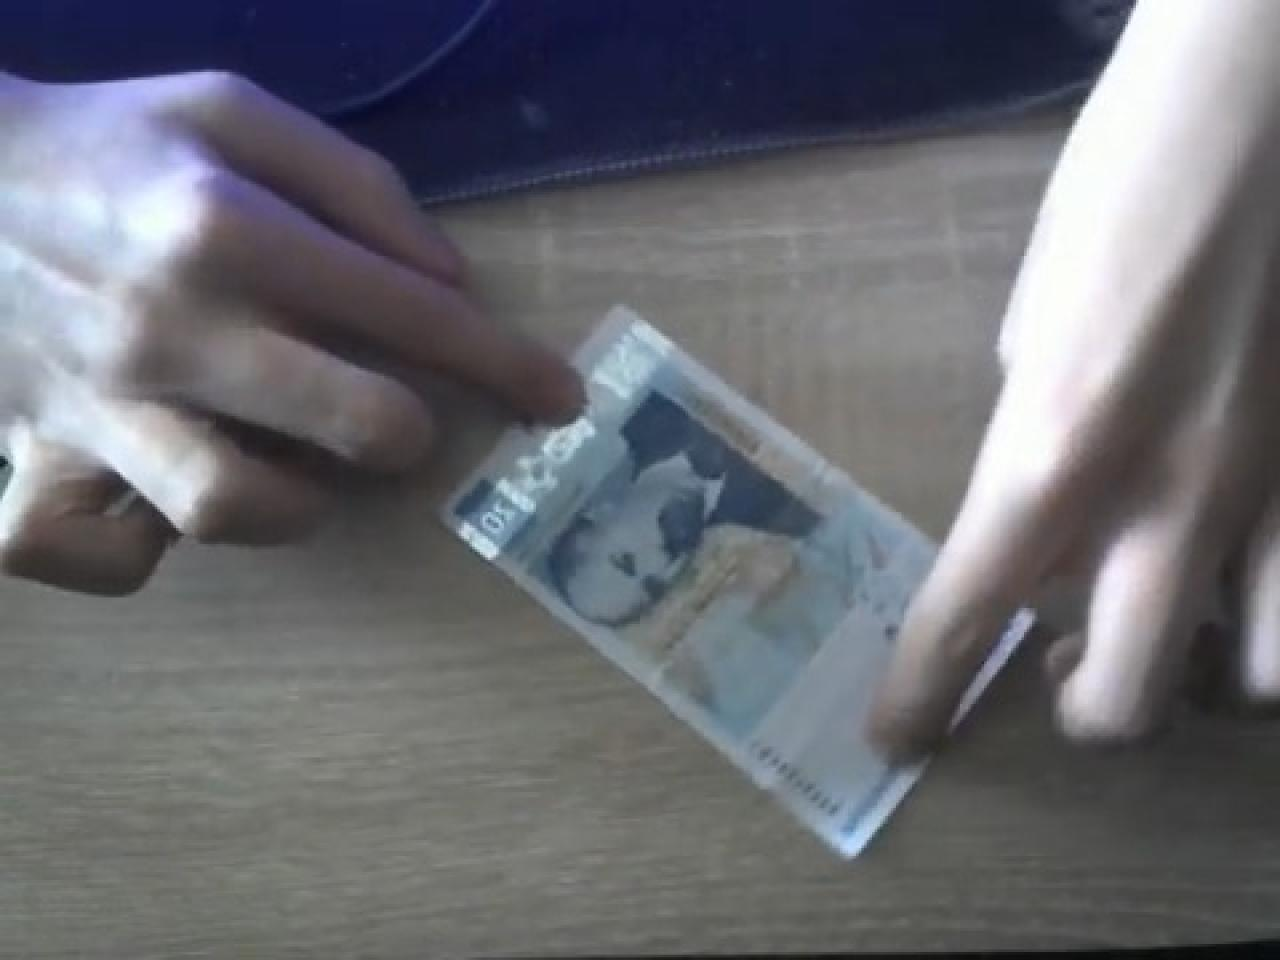20leva: (434, 298, 1008, 858)
